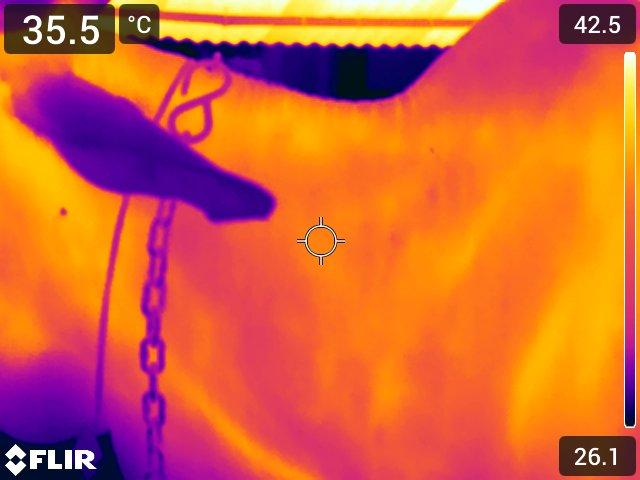ear: (9, 64, 290, 225)
